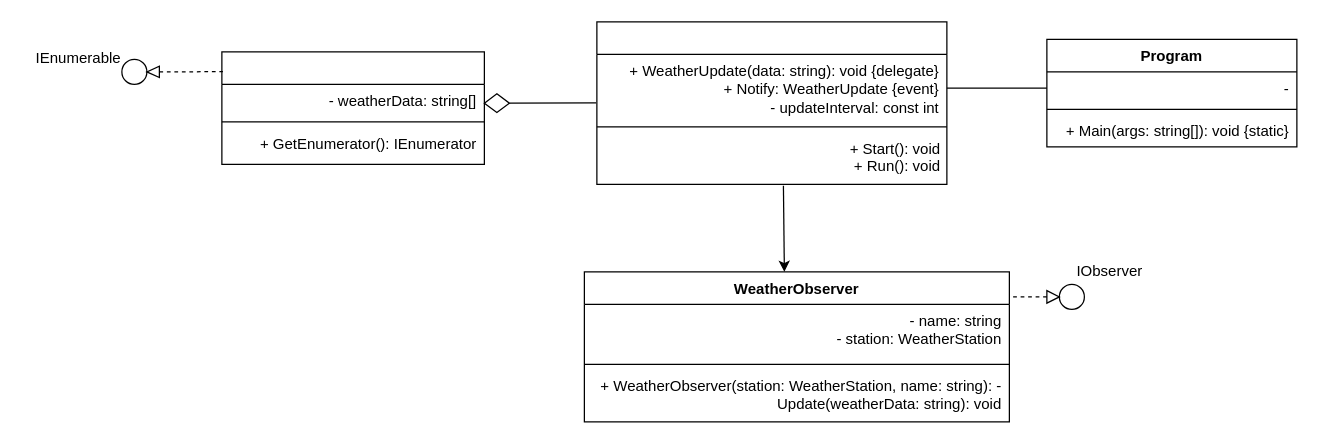
The diagram is 1319 pixels wide and 448 high, and some of its shapes have lost their labels. Each missing label, with the box of its shape:
Simulator: (221, 51, 484, 164)
WeatherStation: (596, 21, 947, 184)
